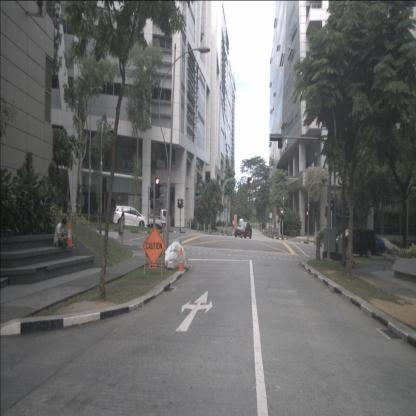human-pedestrian-adult: (54, 217, 68, 249), (119, 211, 125, 242)
movable_object-trafficcone: (66, 220, 74, 246), (177, 247, 185, 272)
vehicle-car: (334, 228, 376, 258), (113, 205, 148, 229), (354, 236, 386, 256), (234, 222, 252, 238), (239, 218, 244, 228)
vehicle-truck: (142, 209, 171, 231)
